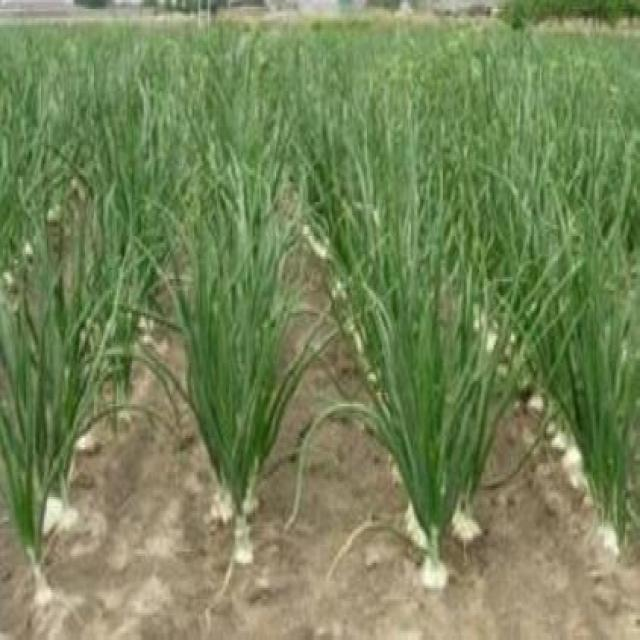row: (420, 244, 629, 616), (275, 249, 422, 612), (58, 271, 211, 616)
